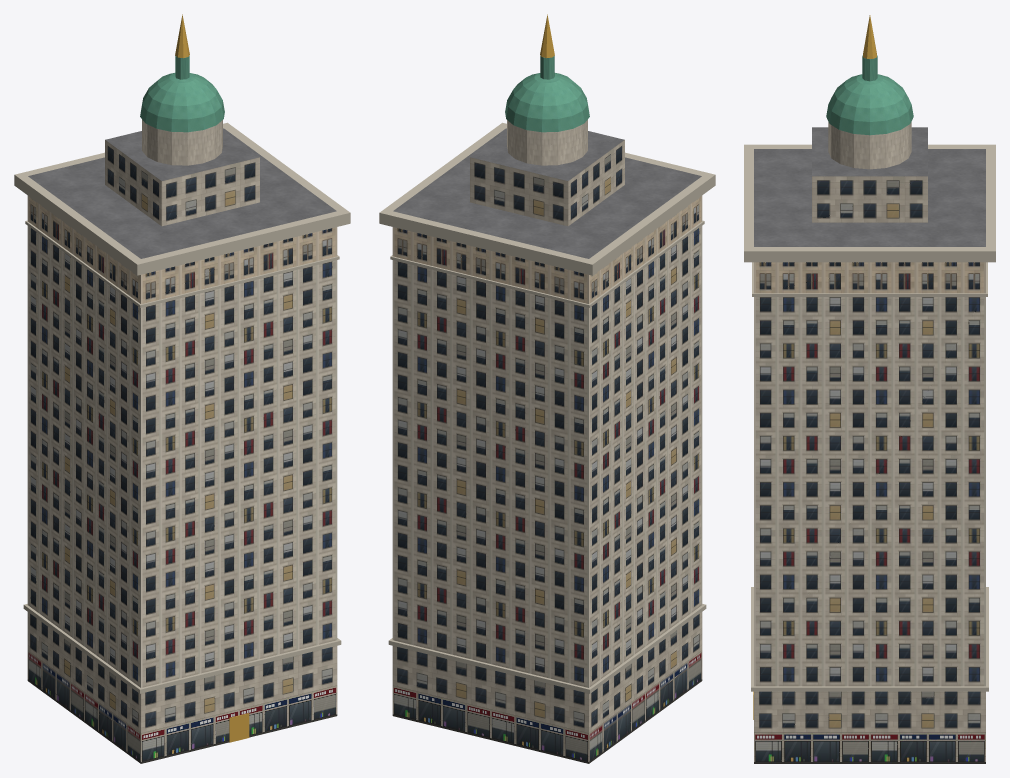
The model's file is 033_early_sky_cupola.glb.
3 views of the same model, side by side, from view 1: azimuth 30°, elevation 25°; view 2: azimuth 150°, elevation 25°; view 3: azimuth 270°, elevation 25° (orthographic). The views are drawn at different scales.
Parts seen in each view (by area): view 1: 033_early_sky_cupola; view 2: 033_early_sky_cupola; view 3: 033_early_sky_cupola.
Part boxes in pixels (x1=…): 033_early_sky_cupola: x1=14, y1=14, x2=350, y2=763; 033_early_sky_cupola: x1=379, y1=14, x2=715, y2=763; 033_early_sky_cupola: x1=744, y1=15, x2=995, y2=763.
Size of the model in its own units: 32.6 by 100 by 32.6.
9 materials, 7 textured.
